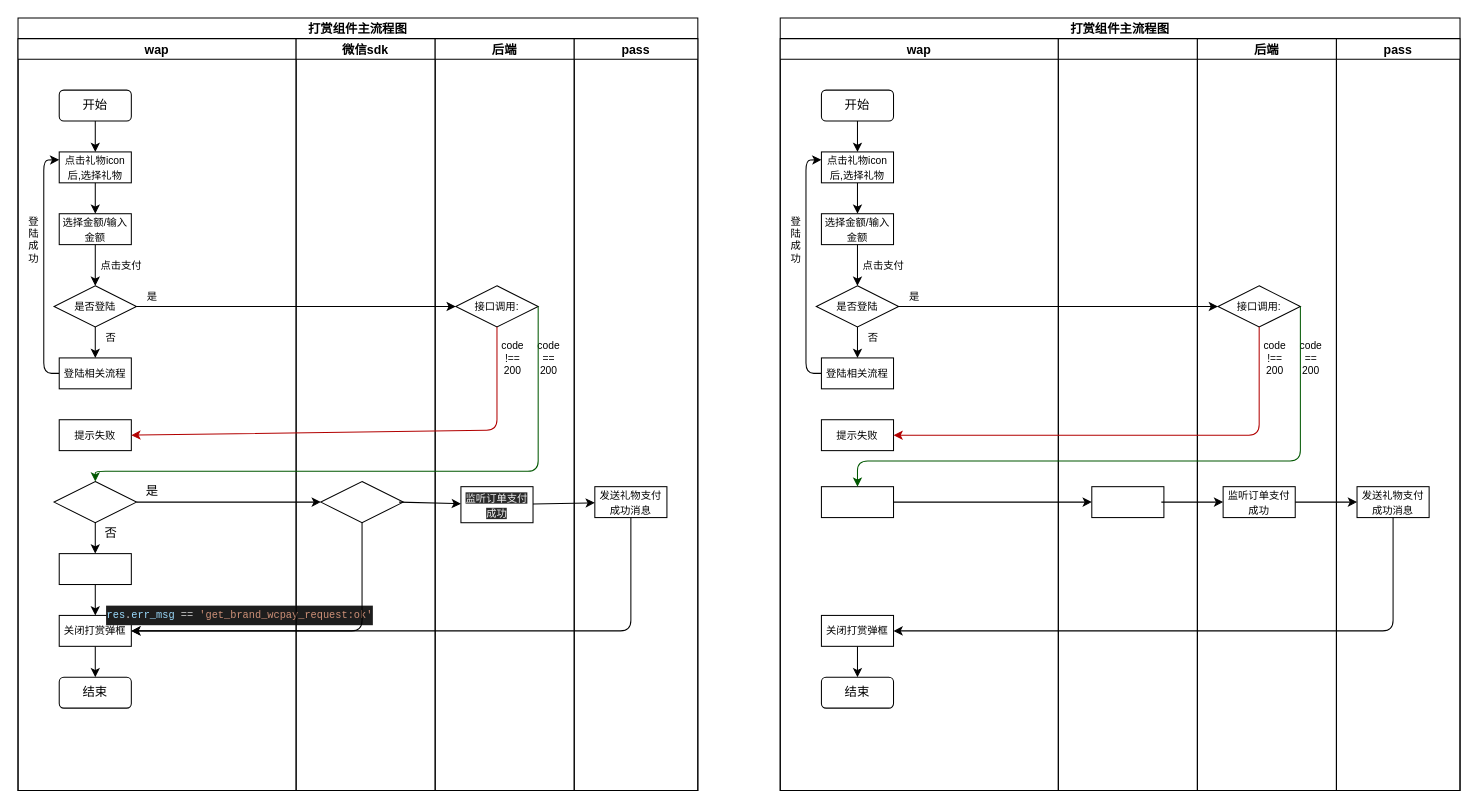
Some shapes in this 1478 by 809 pixel diagram are drawn without their labels. Each missing label, with the box of its shape:
sdk调用: (320, 480, 403, 523)
打开支付弹框: (820, 486, 894, 518)
扫码支付: (1091, 486, 1164, 518)
是否微信支付且授权: (53, 480, 136, 523)
移动支付: (1057, 38, 1197, 791)
跳转支付宝支付链接: (58, 553, 131, 585)
